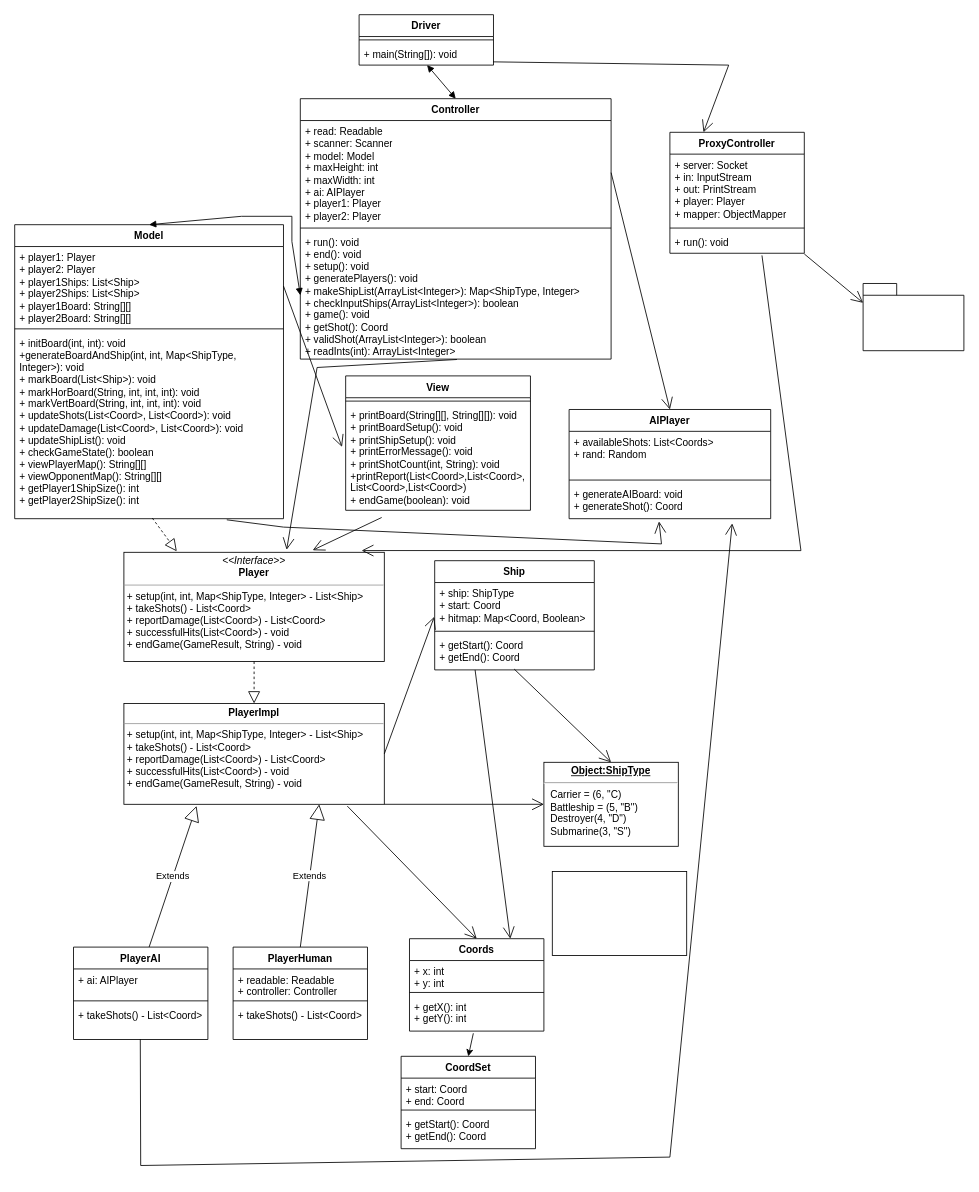
This 979x1192 diagram has some shape labels left out. Here are the shapes that lost their labels. From the top down, the centre of each, then its label:
At [913,317]: "JsonFile".
At [619,913]: "Object:GameResult WIN DRAW LOSE".
